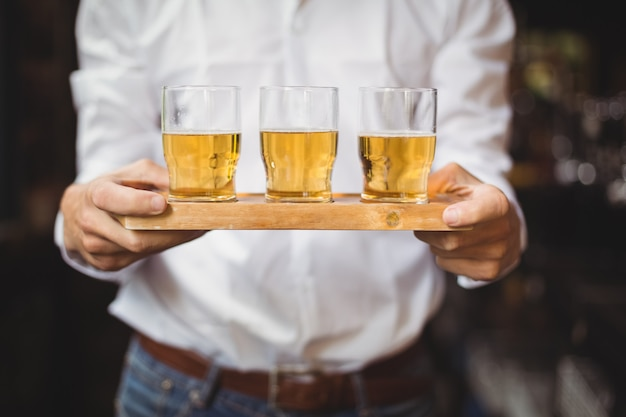alcohol: (358, 84, 440, 208), (161, 83, 242, 203), (258, 85, 338, 202)
